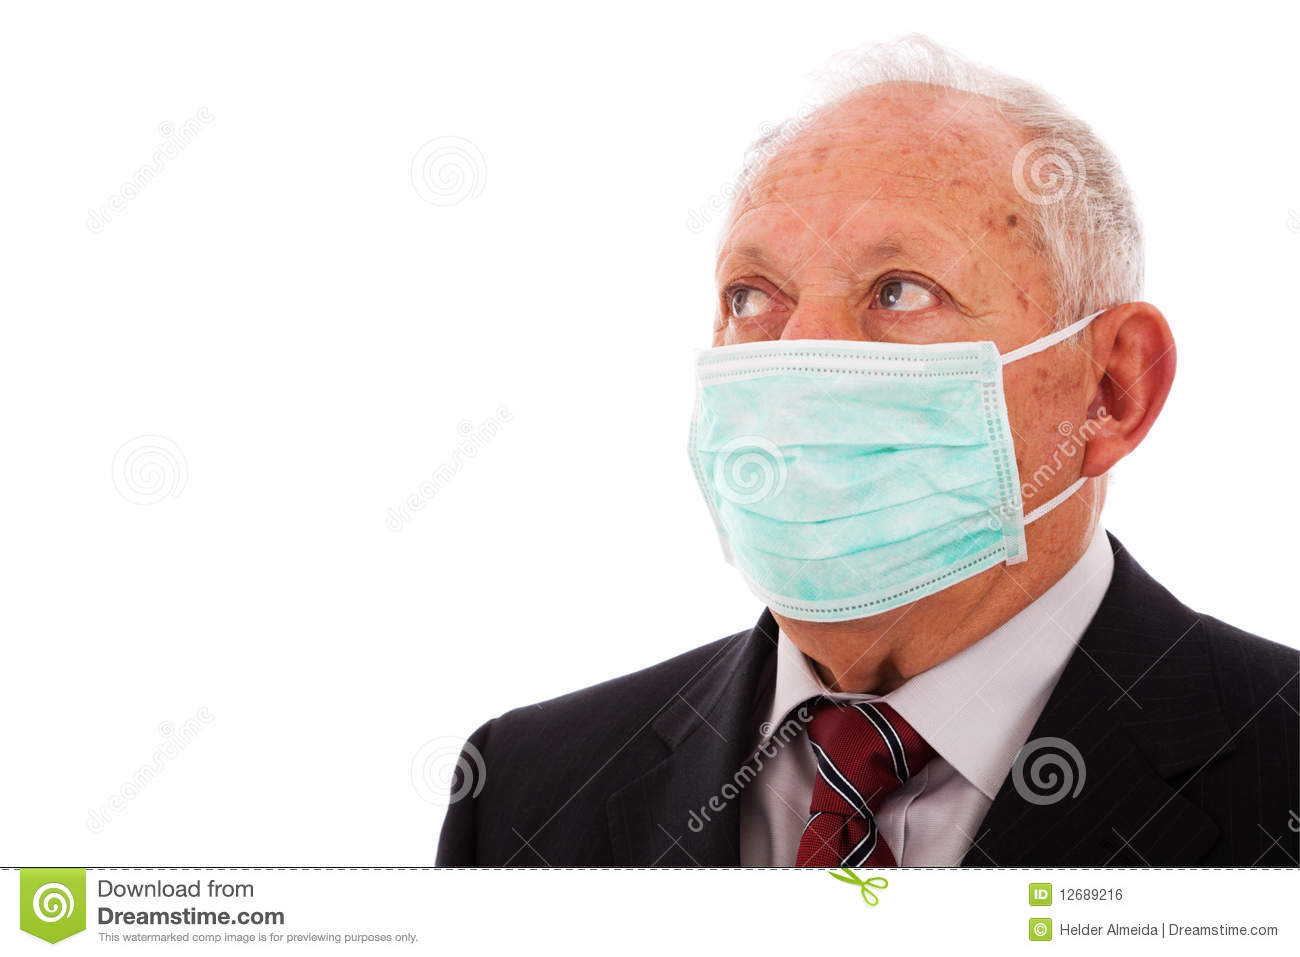mask: (682, 331, 1035, 619)
